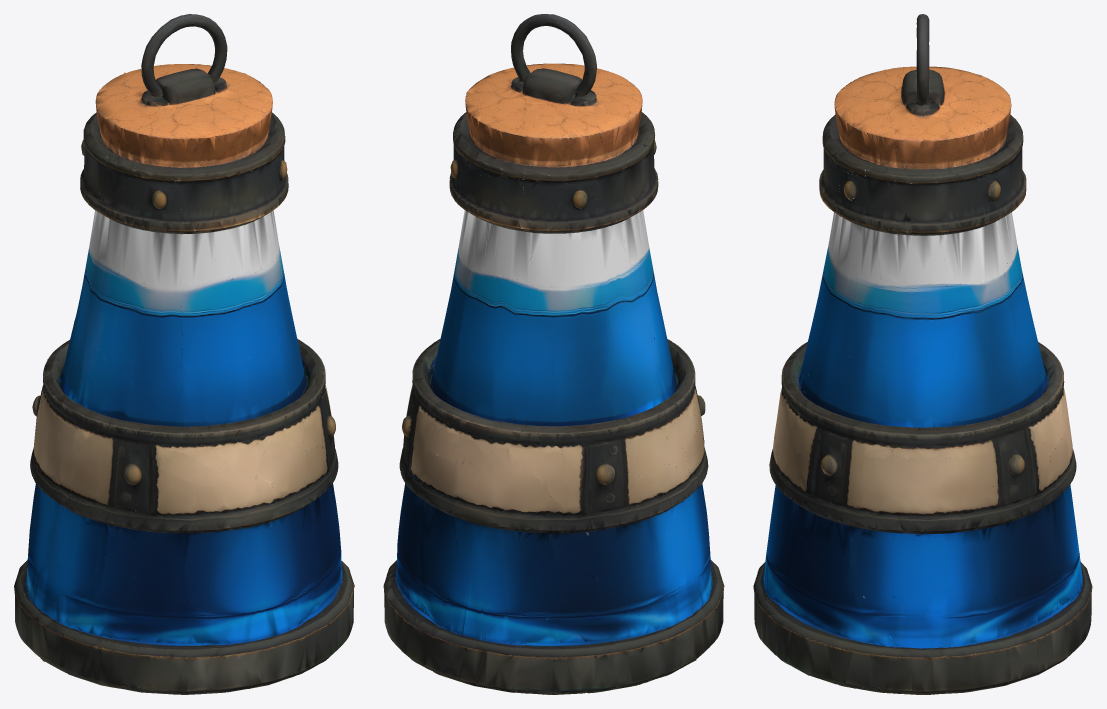
The model's file is elixir-bottle.glb.
3 views of the same model, side by side, from view 1: azimuth 30°, elevation 25°; view 2: azimuth 150°, elevation 25°; view 3: azimuth 270°, elevation 25° (orthographic).
Parts seen in each view (by area): view 1: Mesh_0; view 2: Mesh_0; view 3: Mesh_0.
Boxes of the visible parts, x1,y1,x2,y2 form: Mesh_0: (14,14,354,694); Mesh_0: (383,14,724,694); Mesh_0: (753,14,1092,694).
Bounding box in the file's own units: 0.141 × 0.2801 × 0.141.
1 material, 1 textured.
